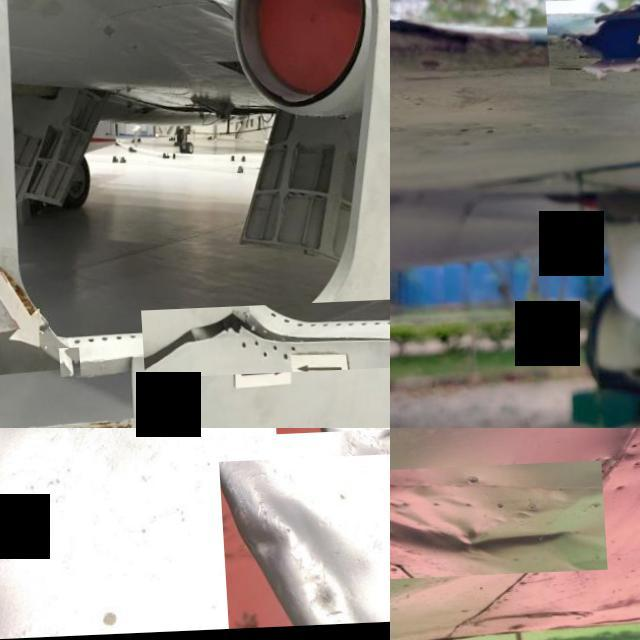Crack: (138, 311, 390, 382), (543, 0, 640, 93), (54, 351, 75, 379)
Dent: (212, 459, 390, 632), (390, 466, 602, 584)
